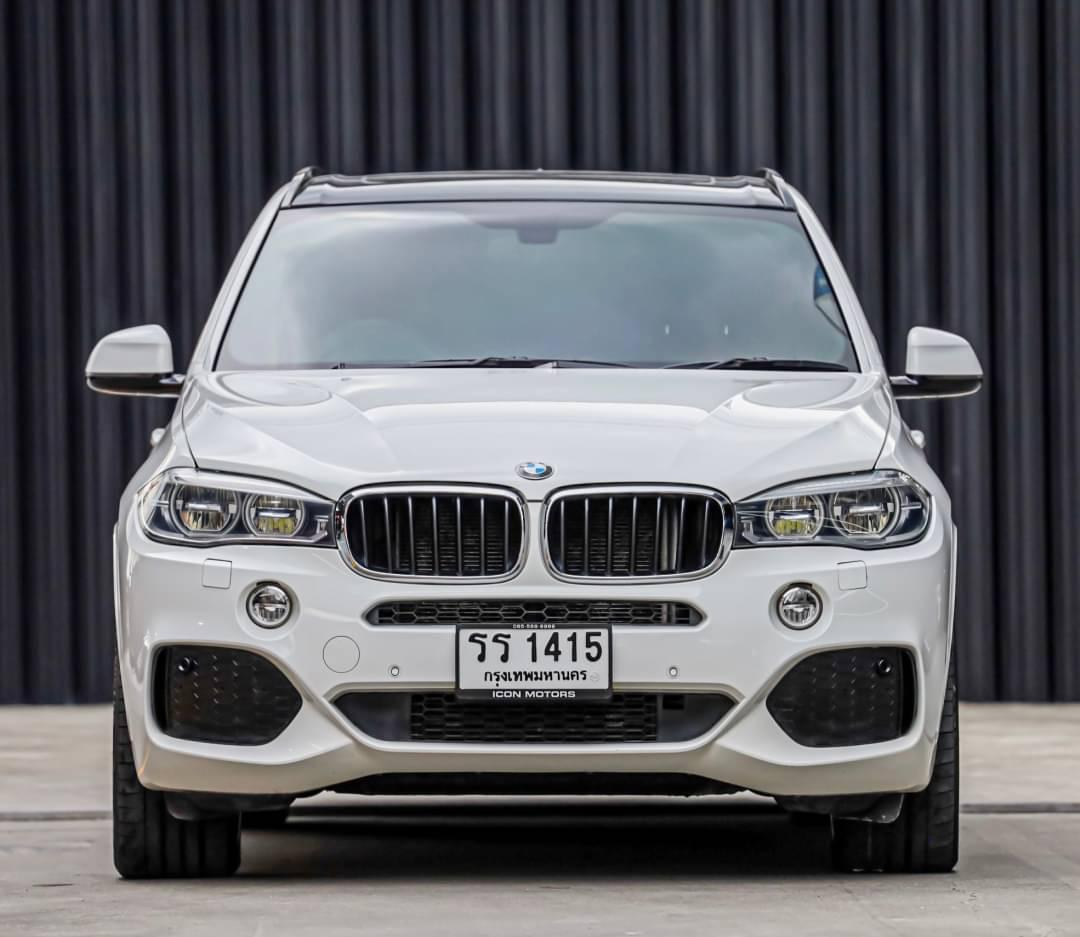license-plate: (453, 622, 618, 706)
